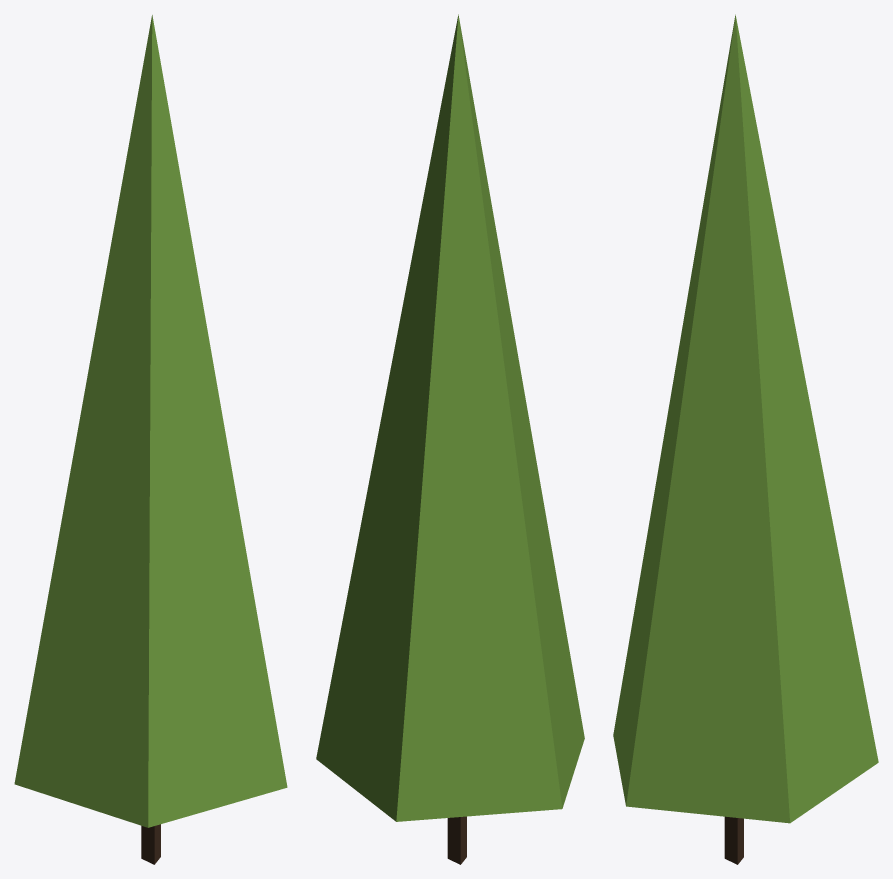
Rendered from meleze_loin.glb.
The picture shows the model from 3 angles, left to right: view 1: azimuth 30°, elevation 25°; view 2: azimuth 150°, elevation 25°; view 3: azimuth 270°, elevation 25°; orthographic projection.
Parts seen in each view (by area): view 1: meleze_loin; view 2: meleze_loin; view 3: meleze_loin.
Part boxes in pixels (x1,y1,x2,y2): meleze_loin: (14, 15, 287, 864); meleze_loin: (316, 14, 584, 864); meleze_loin: (613, 14, 878, 864).
Size of the model in its own units: 5.31 by 18.2 by 5.18.
1 material, 1 textured.
